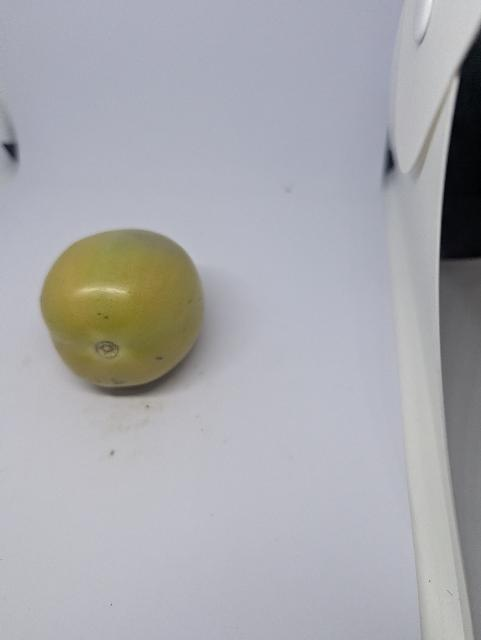breaker: (37, 225, 207, 392)
